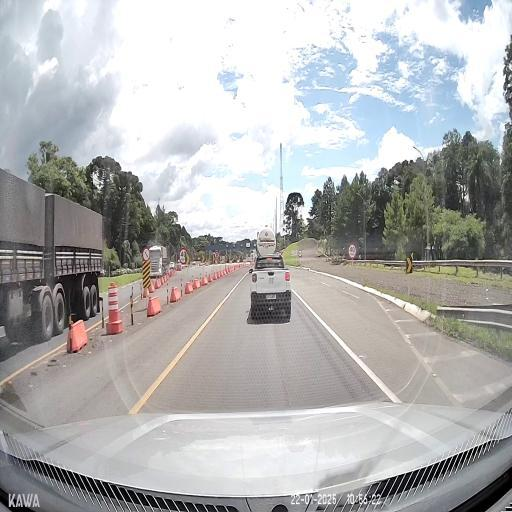R-19: (178, 248, 188, 265), (348, 244, 356, 258), (298, 250, 302, 257)
R-6c: (214, 252, 218, 260)
